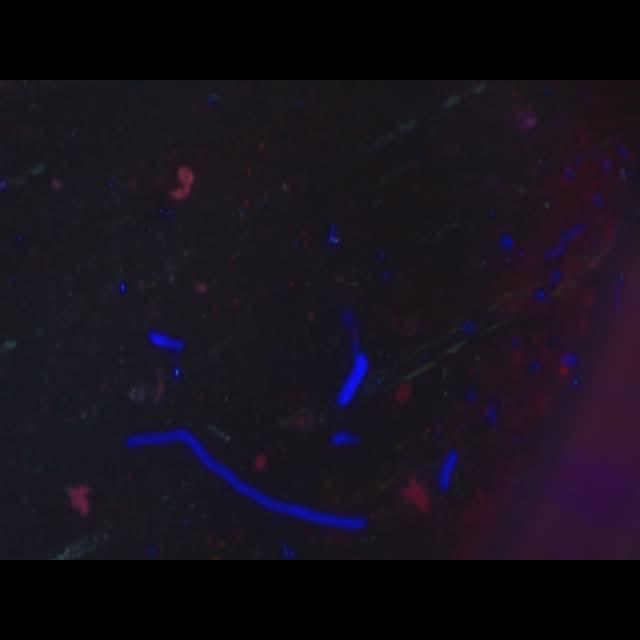Fragment: (168, 162, 196, 200), (66, 482, 92, 516)
